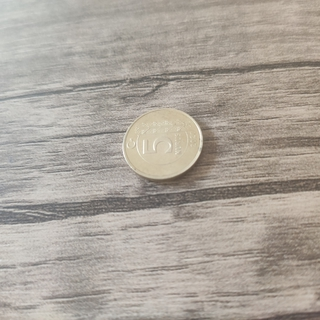5KURUS: (121, 105, 204, 182)
